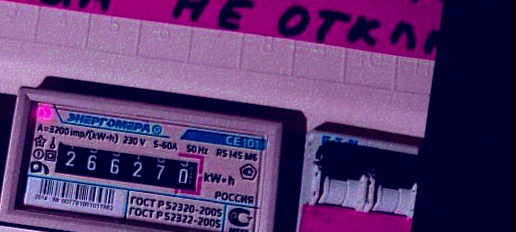0: (176, 166, 190, 185)
2: (62, 148, 77, 168), (130, 159, 144, 178)
6: (107, 156, 122, 176), (85, 152, 99, 172)
7: (153, 162, 166, 181)
screen: (43, 131, 211, 202)
